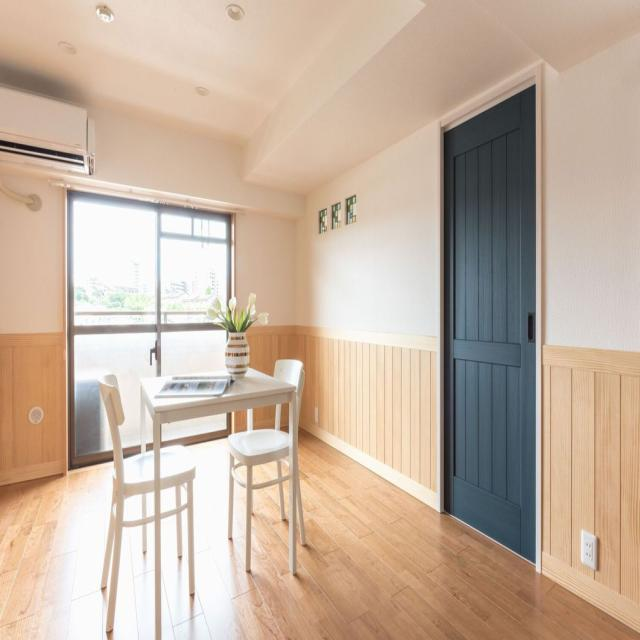natural chair: (96, 370, 197, 632), (231, 364, 314, 576)
natural desk: (126, 358, 300, 620)
